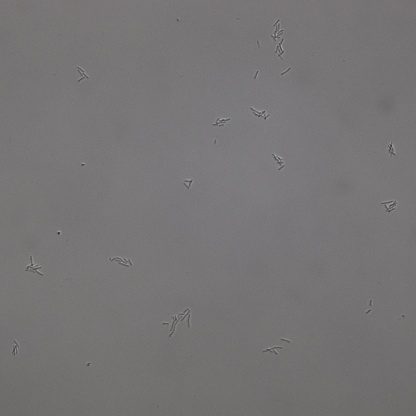R(colony): (161, 307, 191, 338), (25, 255, 42, 275), (108, 254, 132, 267), (271, 18, 283, 41), (251, 107, 271, 120), (381, 199, 398, 214), (275, 40, 287, 61), (212, 116, 229, 129), (76, 66, 89, 83), (273, 152, 285, 170), (263, 348, 283, 355), (11, 340, 19, 356), (387, 143, 396, 157), (183, 178, 193, 190)
